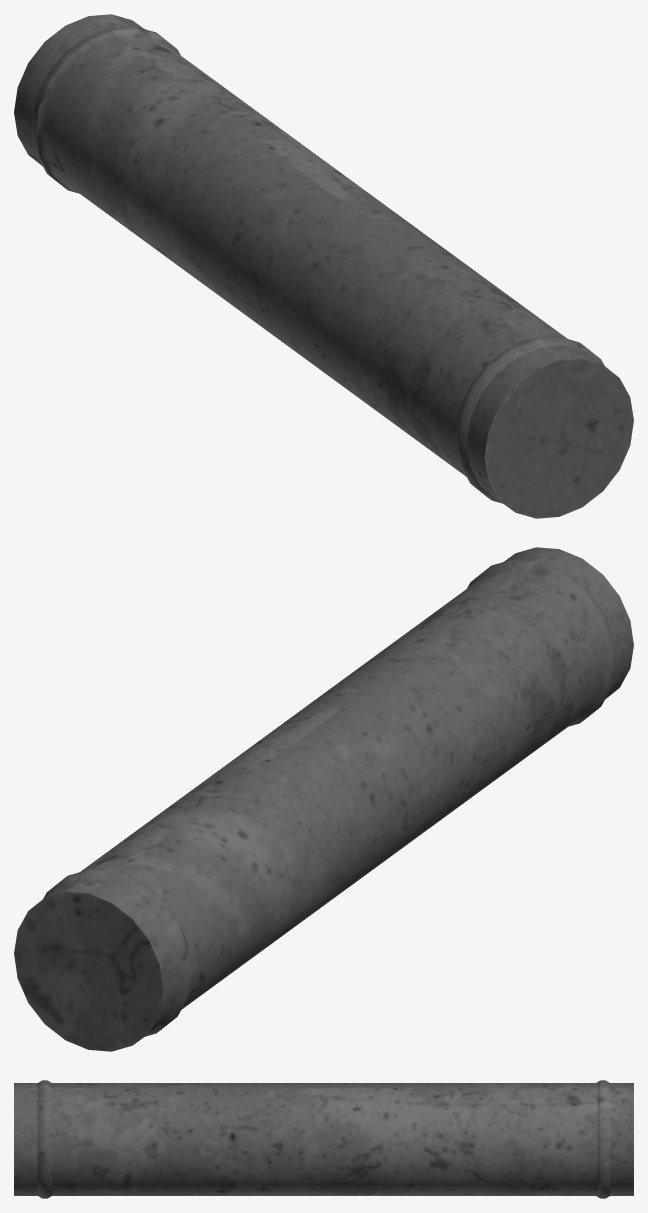
The model's file is SM_Large_Pipe_2m_01.fbx.
The picture shows the model from 3 angles, top to bottom: view 1: azimuth 30°, elevation 25°; view 2: azimuth 150°, elevation 25°; view 3: azimuth 270°, elevation 25°; orthographic projection. The views are drawn at different scales.
Parts seen in each view (by area): view 1: SM_Large_Pipe_2m_01_LOD0; view 2: SM_Large_Pipe_2m_01_LOD0; view 3: SM_Large_Pipe_2m_01_LOD0.
Boxes of the visible parts, bbox=[...] form: SM_Large_Pipe_2m_01_LOD0: bbox=[14, 14, 633, 518]; SM_Large_Pipe_2m_01_LOD0: bbox=[14, 547, 633, 1051]; SM_Large_Pipe_2m_01_LOD0: bbox=[14, 1080, 633, 1198].
Size of the model in its own units: 38.43 by 200 by 38.43.
Materials: 1 (1 with a texture image).
